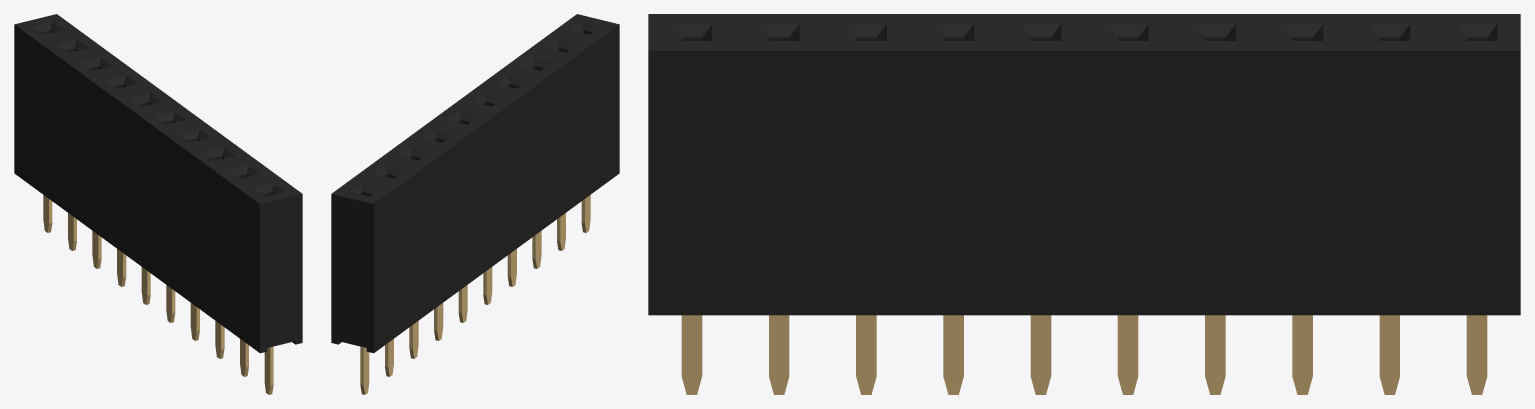
File: kc-pinsocket_1x10_p2.54mm_vertical.glb
3 views of the same model, side by side, from view 1: azimuth 30°, elevation 25°; view 2: azimuth 150°, elevation 25°; view 3: azimuth 270°, elevation 25° (orthographic). The views are drawn at different scales.
Visible parts, largest first — view 1: 0_0_0_0, 0.75_0.5_0.25_0.9; view 2: 0_0_0_0, 0.75_0.5_0.25_0.9; view 3: 0_0_0_0, 0.75_0.5_0.25_0.9.
Part boxes in pixels (x1,y1,x2,y2): 0_0_0_0: [14, 14, 302, 353]; 0.75_0.5_0.25_0.9: [43, 195, 273, 394]; 0_0_0_0: [331, 14, 619, 353]; 0.75_0.5_0.25_0.9: [360, 195, 590, 394]; 0_0_0_0: [648, 14, 1520, 315]; 0.75_0.5_0.25_0.9: [681, 315, 1487, 394].
Size of the model in its own units: 0.2539 by 1.16 by 2.54.
